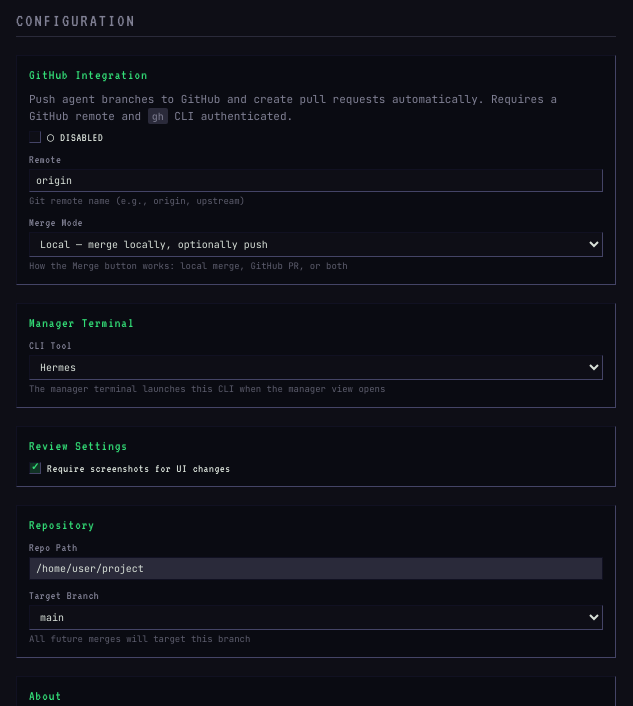
ConfigView › shows create branch form when "Create new branch" is selected
This screenshot has width=633, height=706.
Expected: the text "Target Branch" is shown, [29,589,99,601]
Select "＋ Create new branch…" in the dropdown below "Target Branch": (316, 617) [29,605,603,630]
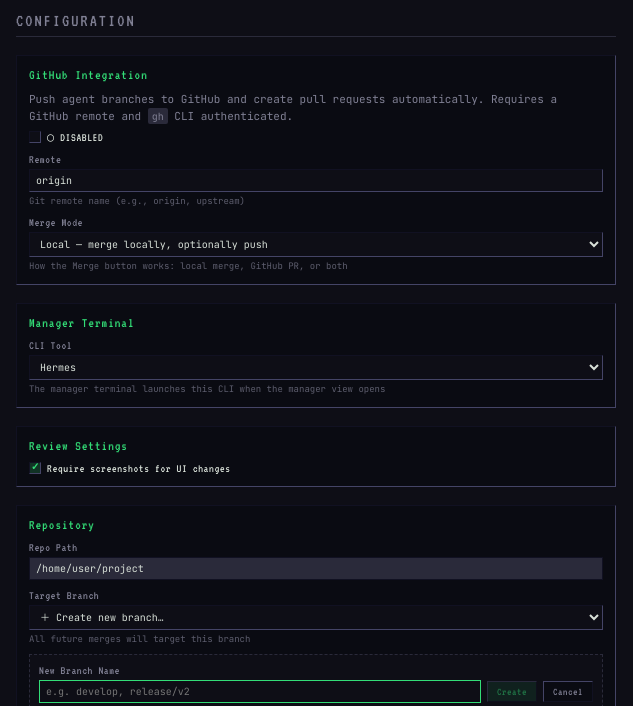
Result: the text "New Branch Name" is shown at [39,664,120,676]
Result: the button "Create" is shown at [487,681,537,702]
Result: the button "Cancel" is shown at [543,681,593,702]
